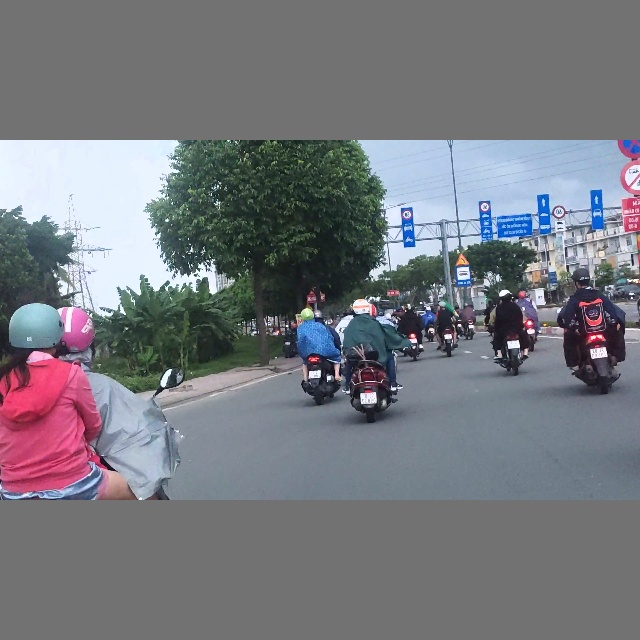I.434a: (456, 265, 471, 286)
P.127*50: (402, 209, 412, 219), (480, 202, 490, 212)
P.127*60: (552, 205, 566, 218)
S.505a*Xe tai va cong: (554, 220, 566, 232)
W.201b: (454, 253, 470, 266)
